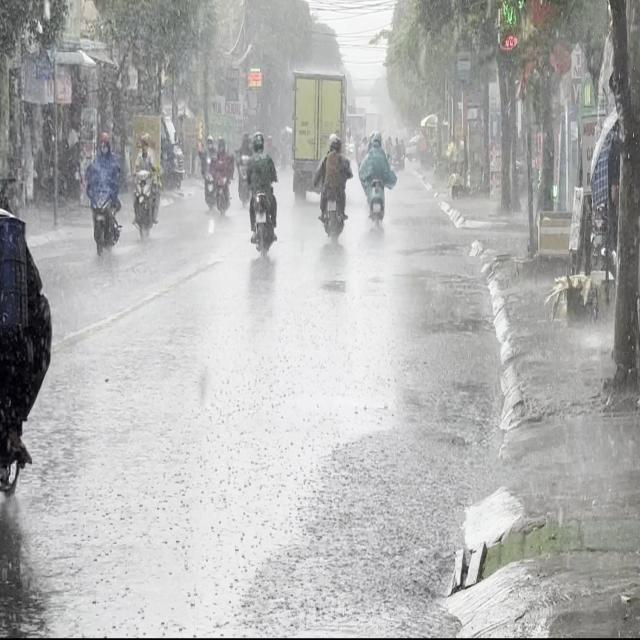licenseplate: (0, 48, 54, 564)
